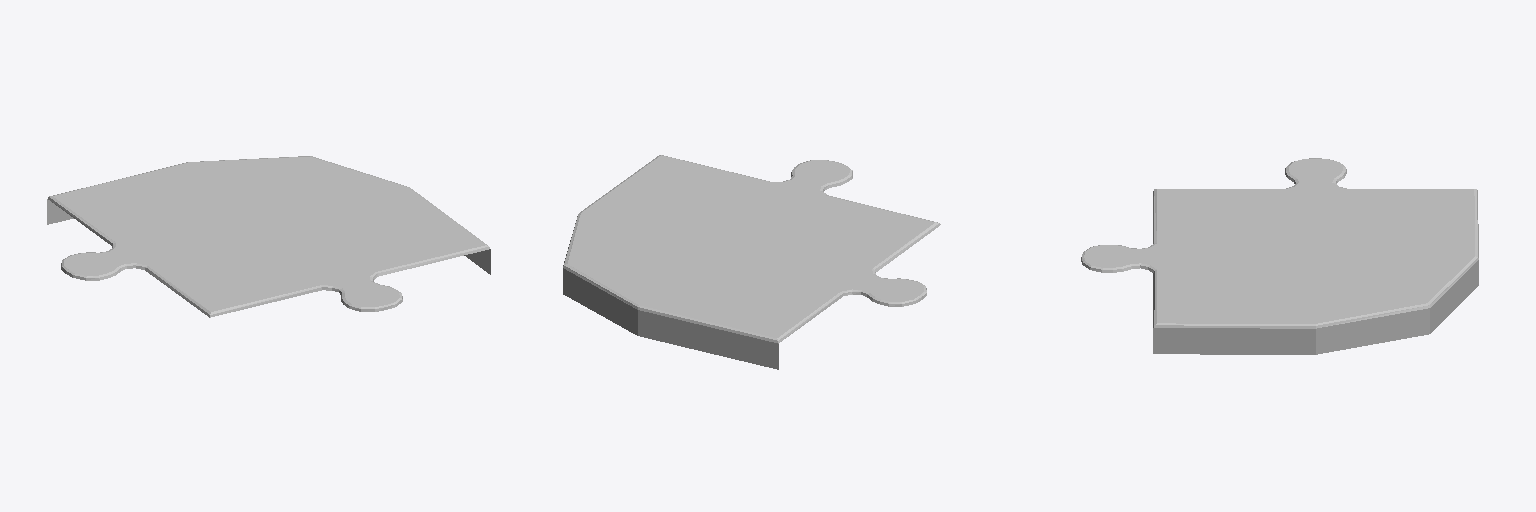
File: Corner Top Right Knobs.obj
3 views of the same model, side by side, from view 1: azimuth 30°, elevation 25°; view 2: azimuth 150°, elevation 25°; view 3: azimuth 270°, elevation 25° (orthographic).
Parts seen in each view (by area): view 1: PuzzleCornerTopRightKnobs; view 2: PuzzleCornerTopRightKnobs; view 3: PuzzleCornerTopRightKnobs.
Boxes of the visible parts, box(x1,y1,x2,y2) form: PuzzleCornerTopRightKnobs: box(47, 156, 490, 317); PuzzleCornerTopRightKnobs: box(563, 155, 940, 369); PuzzleCornerTopRightKnobs: box(1081, 158, 1478, 354).
Size of the model in its own units: 725 by 59.05 by 725.